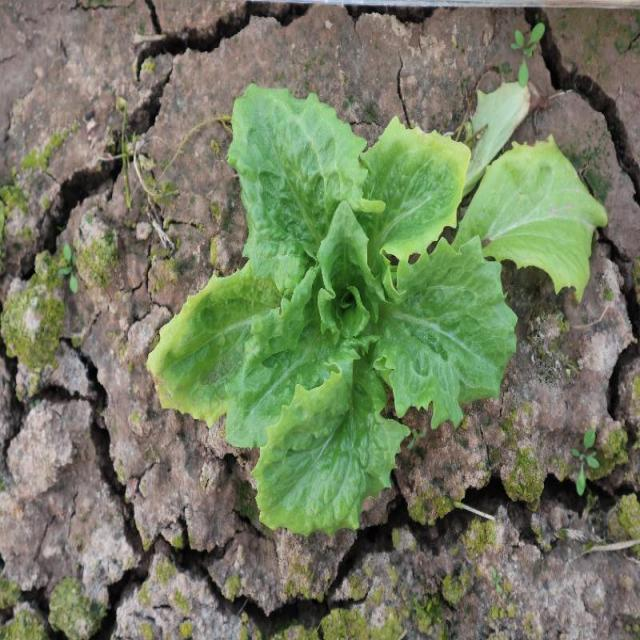crop: (146, 81, 604, 537)
